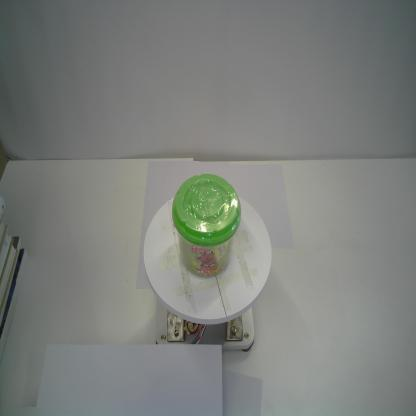Instant Drink: (170, 174, 242, 283)
